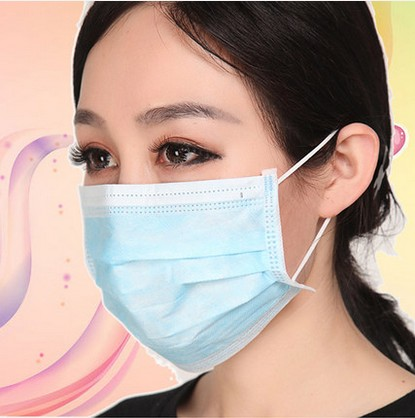face_mask: (74, 19, 302, 347)
